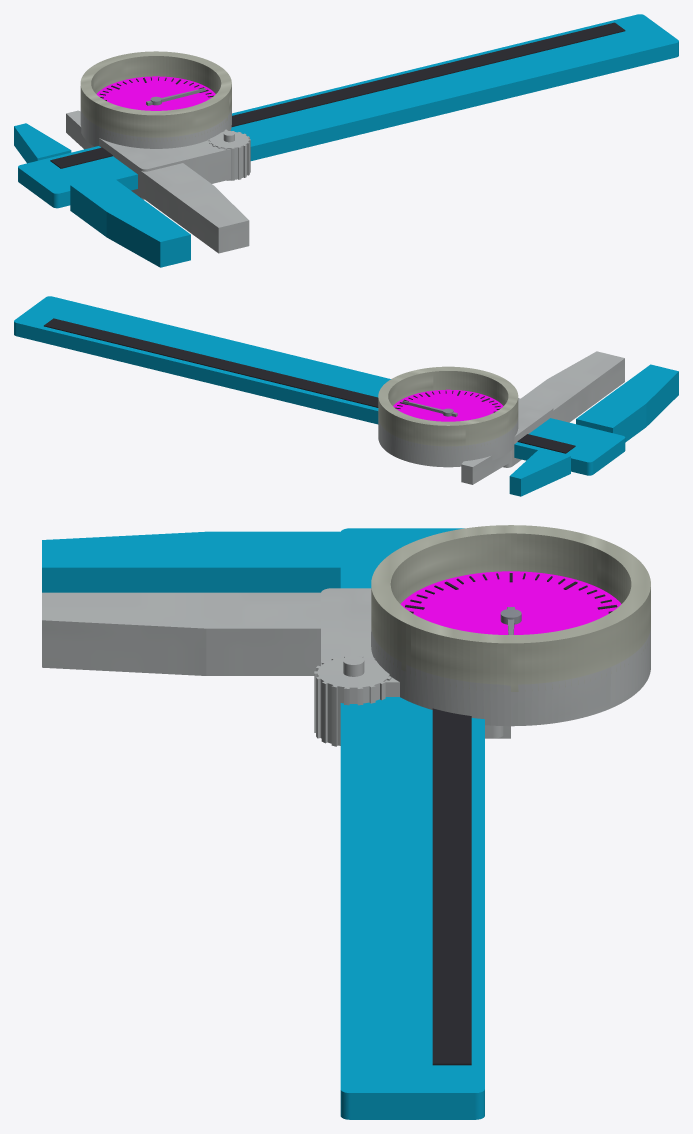
Rendered from Handtools_dial_caliper__0000.glb.
3 renders of one model, top to bottom at view 1: azimuth 30°, elevation 25°; view 2: azimuth 150°, elevation 25°; view 3: azimuth 270°, elevation 25°, orthographic. The views are drawn at different scales.
Visible parts, largest first — view 1: beam::beam_body, slider::slider_body, slider::dial_bezel, beam::fixed_jaw, beam::beam_scale, slider::dial_face, slider::thumb_roller; view 2: beam::beam_body, slider::slider_body, slider::dial_bezel, beam::fixed_jaw, beam::beam_scale, slider::dial_face; view 3: beam::beam_body, slider::slider_body, slider::dial_bezel, beam::fixed_jaw, beam::beam_scale, slider::dial_face, slider::thumb_roller.
Part boxes in pixels (x1,y1,x2,y2): beam::beam_body: [18, 14, 678, 208]; slider::slider_body: [66, 107, 249, 253]; slider::dial_bezel: [80, 51, 231, 141]; beam::fixed_jaw: [14, 123, 190, 267]; beam::beam_scale: [50, 22, 625, 168]; slider::dial_face: [96, 76, 215, 110]; slider::thumb_roller: [208, 131, 250, 180]; beam::beam_body: [14, 296, 625, 475]; slider::slider_body: [378, 351, 624, 484]; slider::dial_bezel: [378, 366, 518, 449]; beam::fixed_jaw: [509, 364, 678, 496]; beam::beam_scale: [44, 318, 575, 453]; slider::dial_face: [393, 389, 503, 421]; beam::beam_body: [340, 528, 484, 1119]; slider::slider_body: [42, 588, 650, 738]; slider::dial_bezel: [371, 525, 650, 691]; beam::fixed_jaw: [42, 531, 340, 592]; beam::beam_scale: [432, 708, 471, 1065]; slider::dial_face: [400, 571, 621, 634]; slider::thumb_roller: [314, 656, 391, 746].
Size of the model in its own units: 0.2041 by 0.0222 by 0.093.
Materials: 7 (3 with a texture image).
